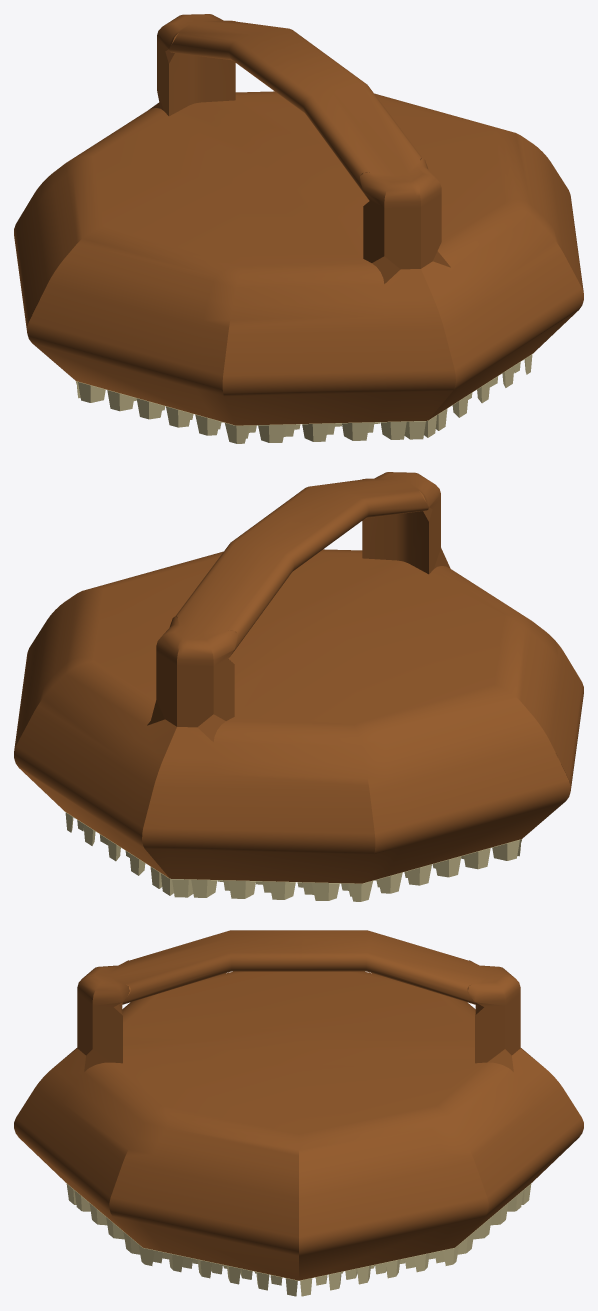
File: Kasagi.fbx
3 renders of one model, top to bottom at view 1: azimuth 30°, elevation 25°; view 2: azimuth 150°, elevation 25°; view 3: azimuth 270°, elevation 25°, orthographic. The views are drawn at different scales.
Parts seen in each view (by area): view 1: Cube.005; view 2: Cube.005; view 3: Cube.005.
Part boxes in pixels (<box>): Cube.005: <box>14,14,583,443</box>; Cube.005: <box>14,472,583,901</box>; Cube.005: <box>14,930,583,1296</box>.
Bounding box in the file's own units: 37.5 × 18.7 × 37.5.
